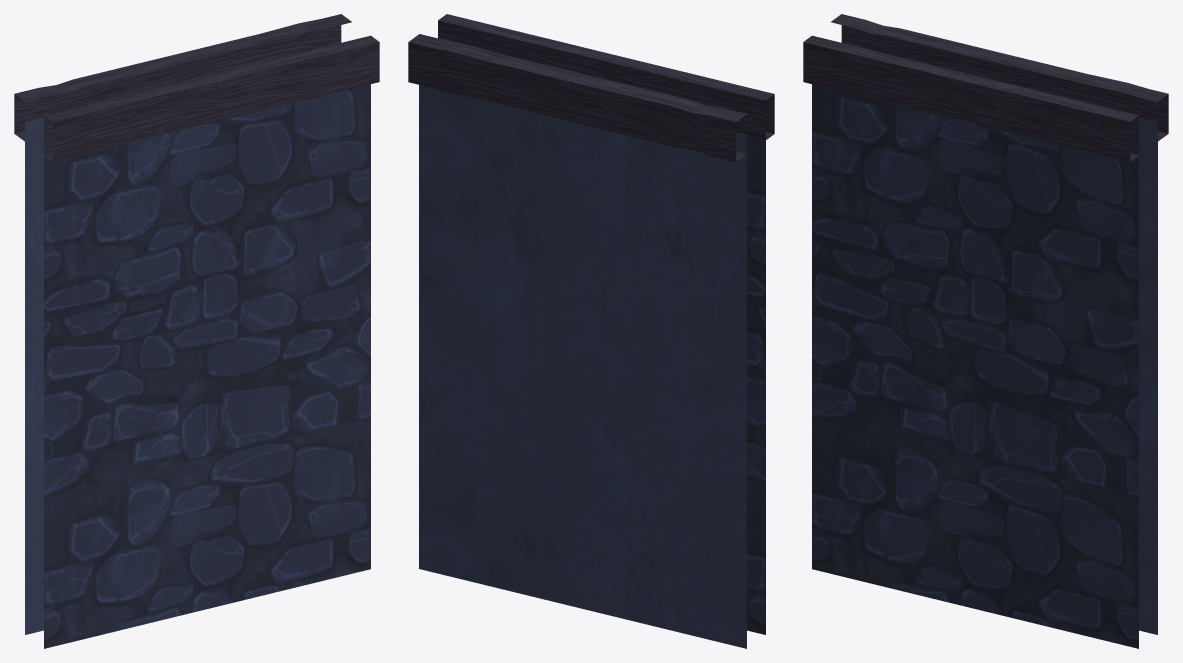
3 views of the same model, side by side, from view 1: azimuth 30°, elevation 25°; view 2: azimuth 150°, elevation 25°; view 3: azimuth 330°, elevation 25° (orthographic).
Visible parts, largest first — view 1: Wall_UnevenBrick_Straight; view 2: Wall_UnevenBrick_Straight; view 3: Wall_UnevenBrick_Straight.
Boxes of the visible parts, left/top/right/bottom form: Wall_UnevenBrick_Straight: left=14, top=14, right=379, bottom=648; Wall_UnevenBrick_Straight: left=408, top=14, right=774, bottom=648; Wall_UnevenBrick_Straight: left=803, top=14, right=1168, bottom=648.
Size of the model in its own units: 2 by 3.12 by 0.4065.
Materials: 3 (3 with a texture image).
